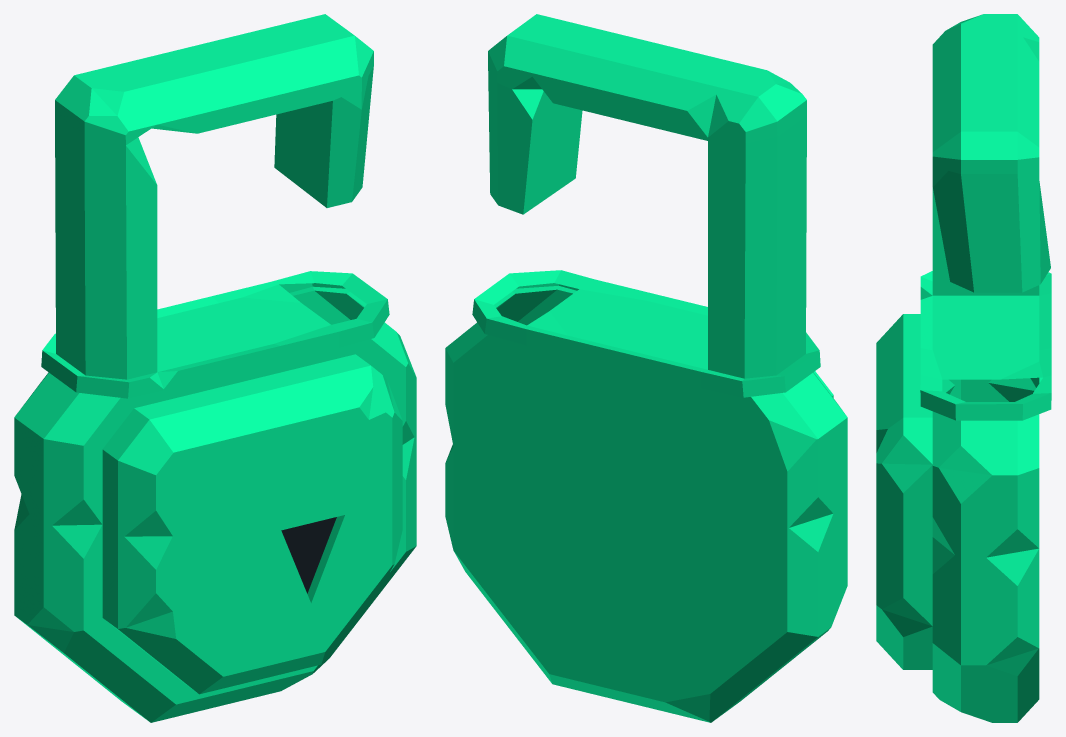
The model's file is lock_unlocked_green.glb.
3 renders of one model, left to right at view 1: azimuth 30°, elevation 25°; view 2: azimuth 150°, elevation 25°; view 3: azimuth 270°, elevation 25°, orthographic. The views are drawn at different scales.
Visible parts, largest first — view 1: Circle.017; view 2: Circle.017; view 3: Circle.017.
Boxes of the visible parts, x1=… form: Circle.017: x1=14, y1=14, x2=416, y2=722; Circle.017: x1=445, y1=14, x2=847, y2=722; Circle.017: x1=876, y1=14, x2=1051, y2=722.
Bounding box in the file's own units: 2 × 3.27 × 0.8475.
1 material, 1 textured.
